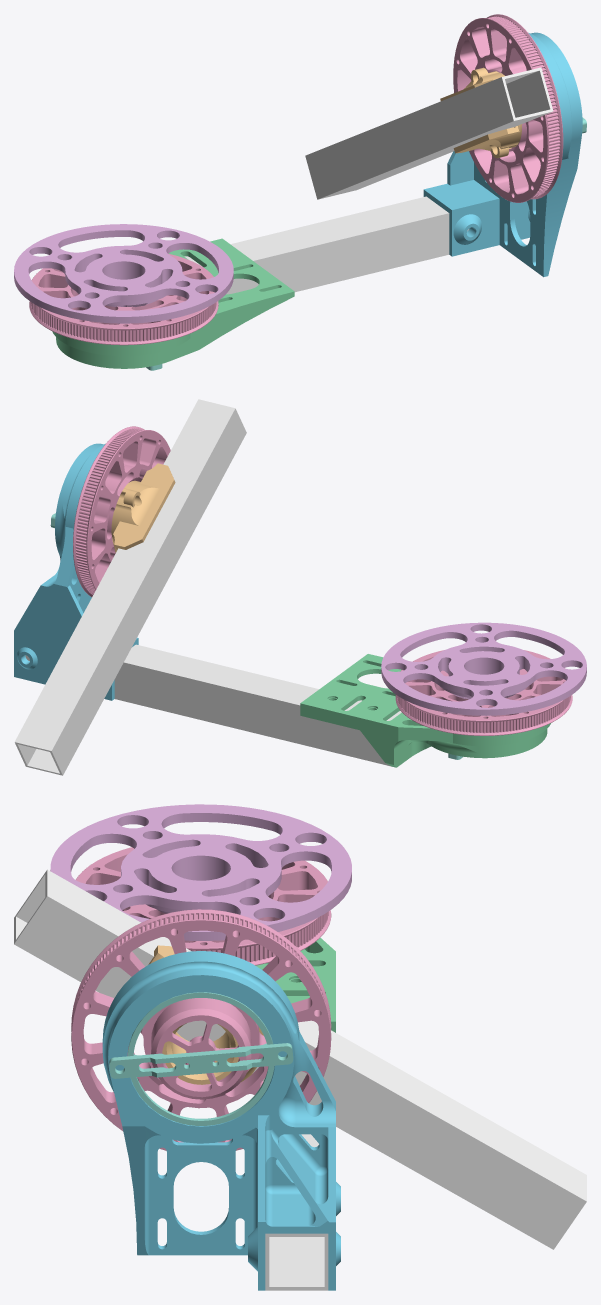
Rendered from Orbiter.glb.
3 views of the same model, one above another, from view 1: azimuth 30°, elevation 25°; view 2: azimuth 150°, elevation 25°; view 3: azimuth 270°, elevation 25° (orthographic). The views are drawn at different scales.
Visible parts, largest first — view 1: BasePlatformInsert.001, OrbitArm.001, MainRail.001, OrbitMount.001, BasePulley.003, BaseMount.001, BasePulley.001, OrbitBarInsert.001; view 2: OrbitArm.001, MainRail.001, BasePlatformInsert.001, BaseMount.001, OrbitMount.001, BasePulley.003, BasePulley.001, OrbitBarInsert.001; view 3: OrbitMount.001, OrbitArm.001, BasePlatformInsert.001, BasePulley.003, BaseSensor.003, BasePulley.001, MainRail.001, BaseMount.001, OrbitBarInsert.001.
Boxes of the visible parts, left/top/right/bottom form: BasePlatformInsert.001: left=14, top=224, right=233, bottom=323; OrbitArm.001: left=305, top=67, right=553, bottom=199; MainRail.001: left=184, top=196, right=468, bottom=294; OrbitMount.001: left=423, top=32, right=582, bottom=277; BasePulley.003: left=453, top=14, right=563, bottom=202; BaseMount.001: left=52, top=238, right=294, bottom=368; BasePulley.001: left=29, top=253, right=218, bottom=345; OrbitBarInsert.001: left=440, top=67, right=522, bottom=158; OrbitArm.001: left=14, top=399, right=246, bottom=775; MainRail.001: left=25, top=644, right=401, bottom=766; BasePlatformInsert.001: left=381, top=622, right=586, bottom=715; BaseMount.001: left=300, top=654, right=550, bottom=767; OrbitMount.001: left=14, top=443, right=138, bottom=700; BasePulley.003: left=73, top=426, right=170, bottom=596; BasePulley.001: left=395, top=650, right=572, bottom=735; OrbitBarInsert.001: left=111, top=463, right=175, bottom=552; OrbitMount.001: left=102, top=951, right=340, bottom=1290; OrbitArm.001: left=14, top=869, right=586, bottom=1249; BasePlatformInsert.001: left=50, top=804, right=351, bottom=940; BasePulley.003: left=71, top=909, right=331, bottom=1150; BaseSensor.003: left=109, top=992, right=293, bottom=1125; BasePulley.001: left=76, top=847, right=331, bottom=965; MainRail.001: left=265, top=1134, right=328, bottom=1290; BaseMount.001: left=256, top=937, right=335, bottom=1032; OrbitBarInsert.001: left=148, top=945, right=263, bottom=1084.
Bounding box in the file's own units: 0.3459 × 0.1552 × 0.2278.
